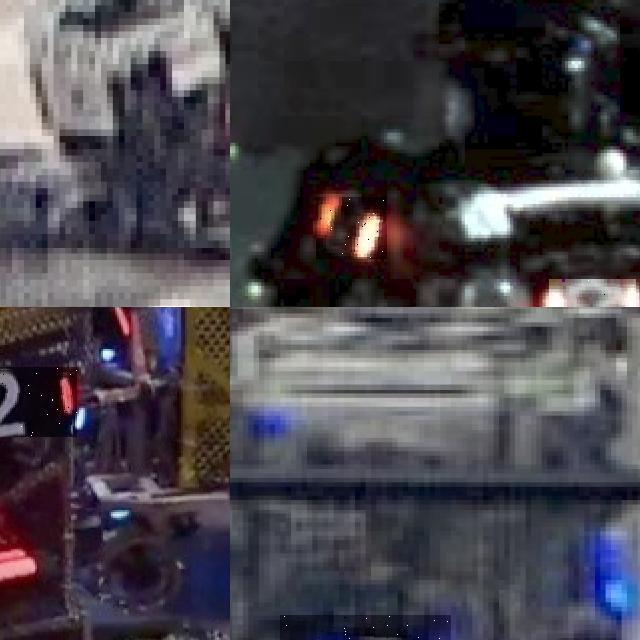B2: (280, 615, 450, 640)
R2: (0, 366, 77, 437)
Rs: (316, 197, 387, 259), (548, 278, 636, 307)
